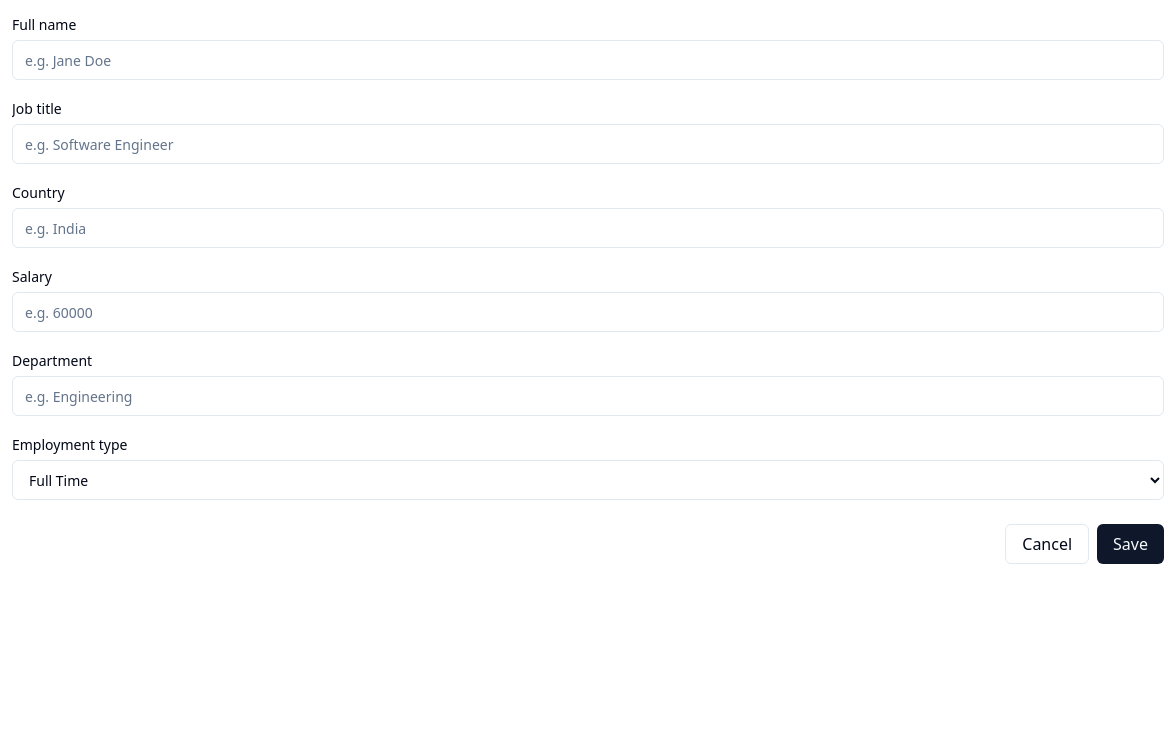
Scenario: EmployeeForm › validation — required fields › should show error when full_name is empty on submit
Note: Submit without touching full_name
Click the button "Save". click: (1131, 544)
box: [1097, 524, 1164, 564]
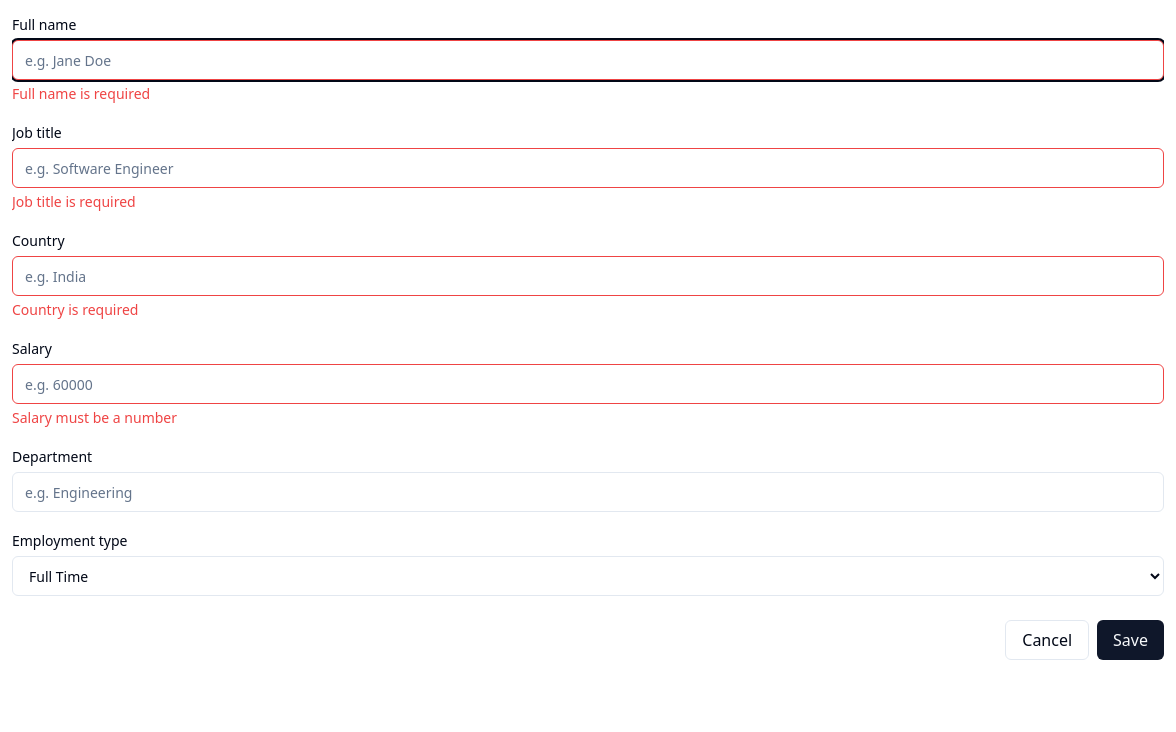
Expected: the text "Full name is required" is shown, [12, 84, 150, 103]
